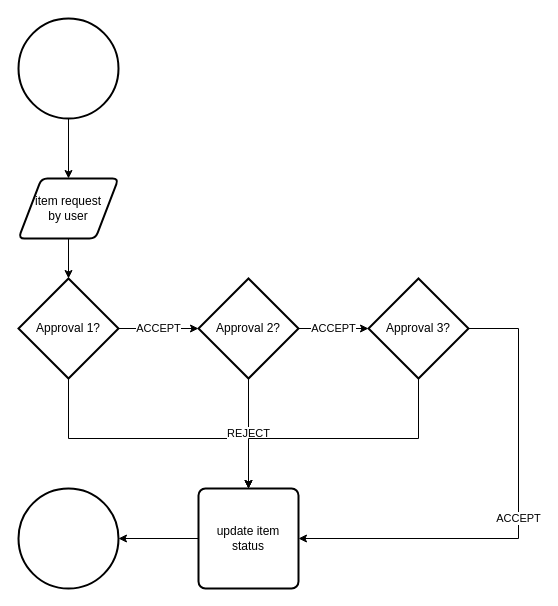
Some shapes in this 558 by 606 pixel diagram are drawn without their labels. Each missing label, with the centre of its shape:
"start" goes at point (68, 68).
"stop" goes at point (68, 538).
